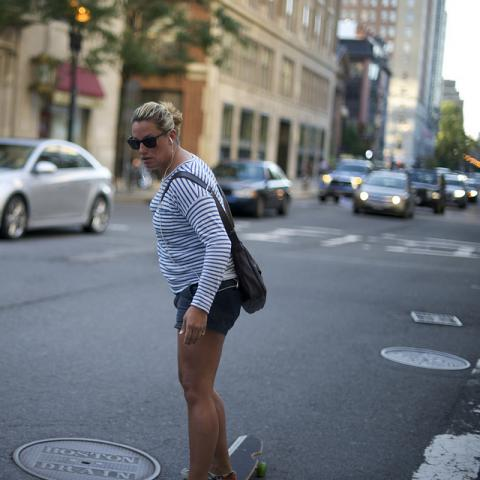car: (0, 135, 118, 239), (212, 160, 292, 218), (349, 168, 418, 220), (318, 158, 376, 204), (404, 169, 447, 212), (444, 174, 468, 207), (464, 178, 480, 202)
truck: (317, 156, 377, 202), (409, 171, 446, 213)
